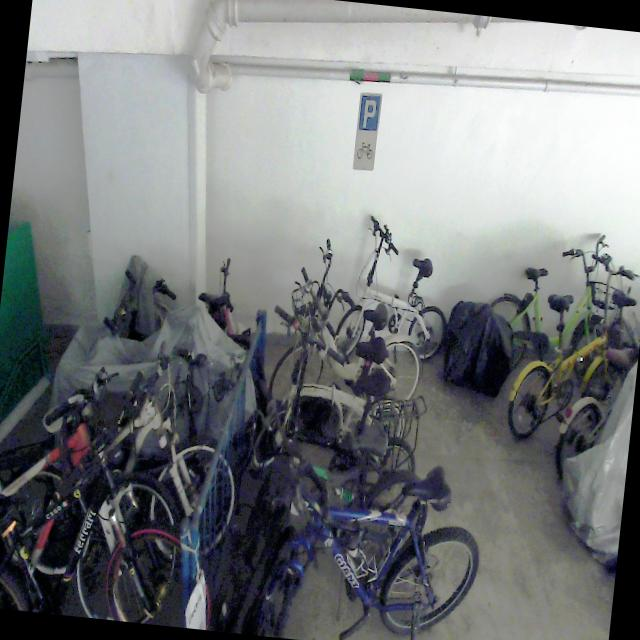bike: (3, 326, 250, 600), (0, 357, 236, 630), (0, 356, 197, 626), (224, 443, 488, 640), (244, 358, 423, 544), (266, 233, 432, 415), (250, 302, 416, 484), (478, 223, 636, 403), (505, 244, 640, 447), (333, 211, 457, 365)
